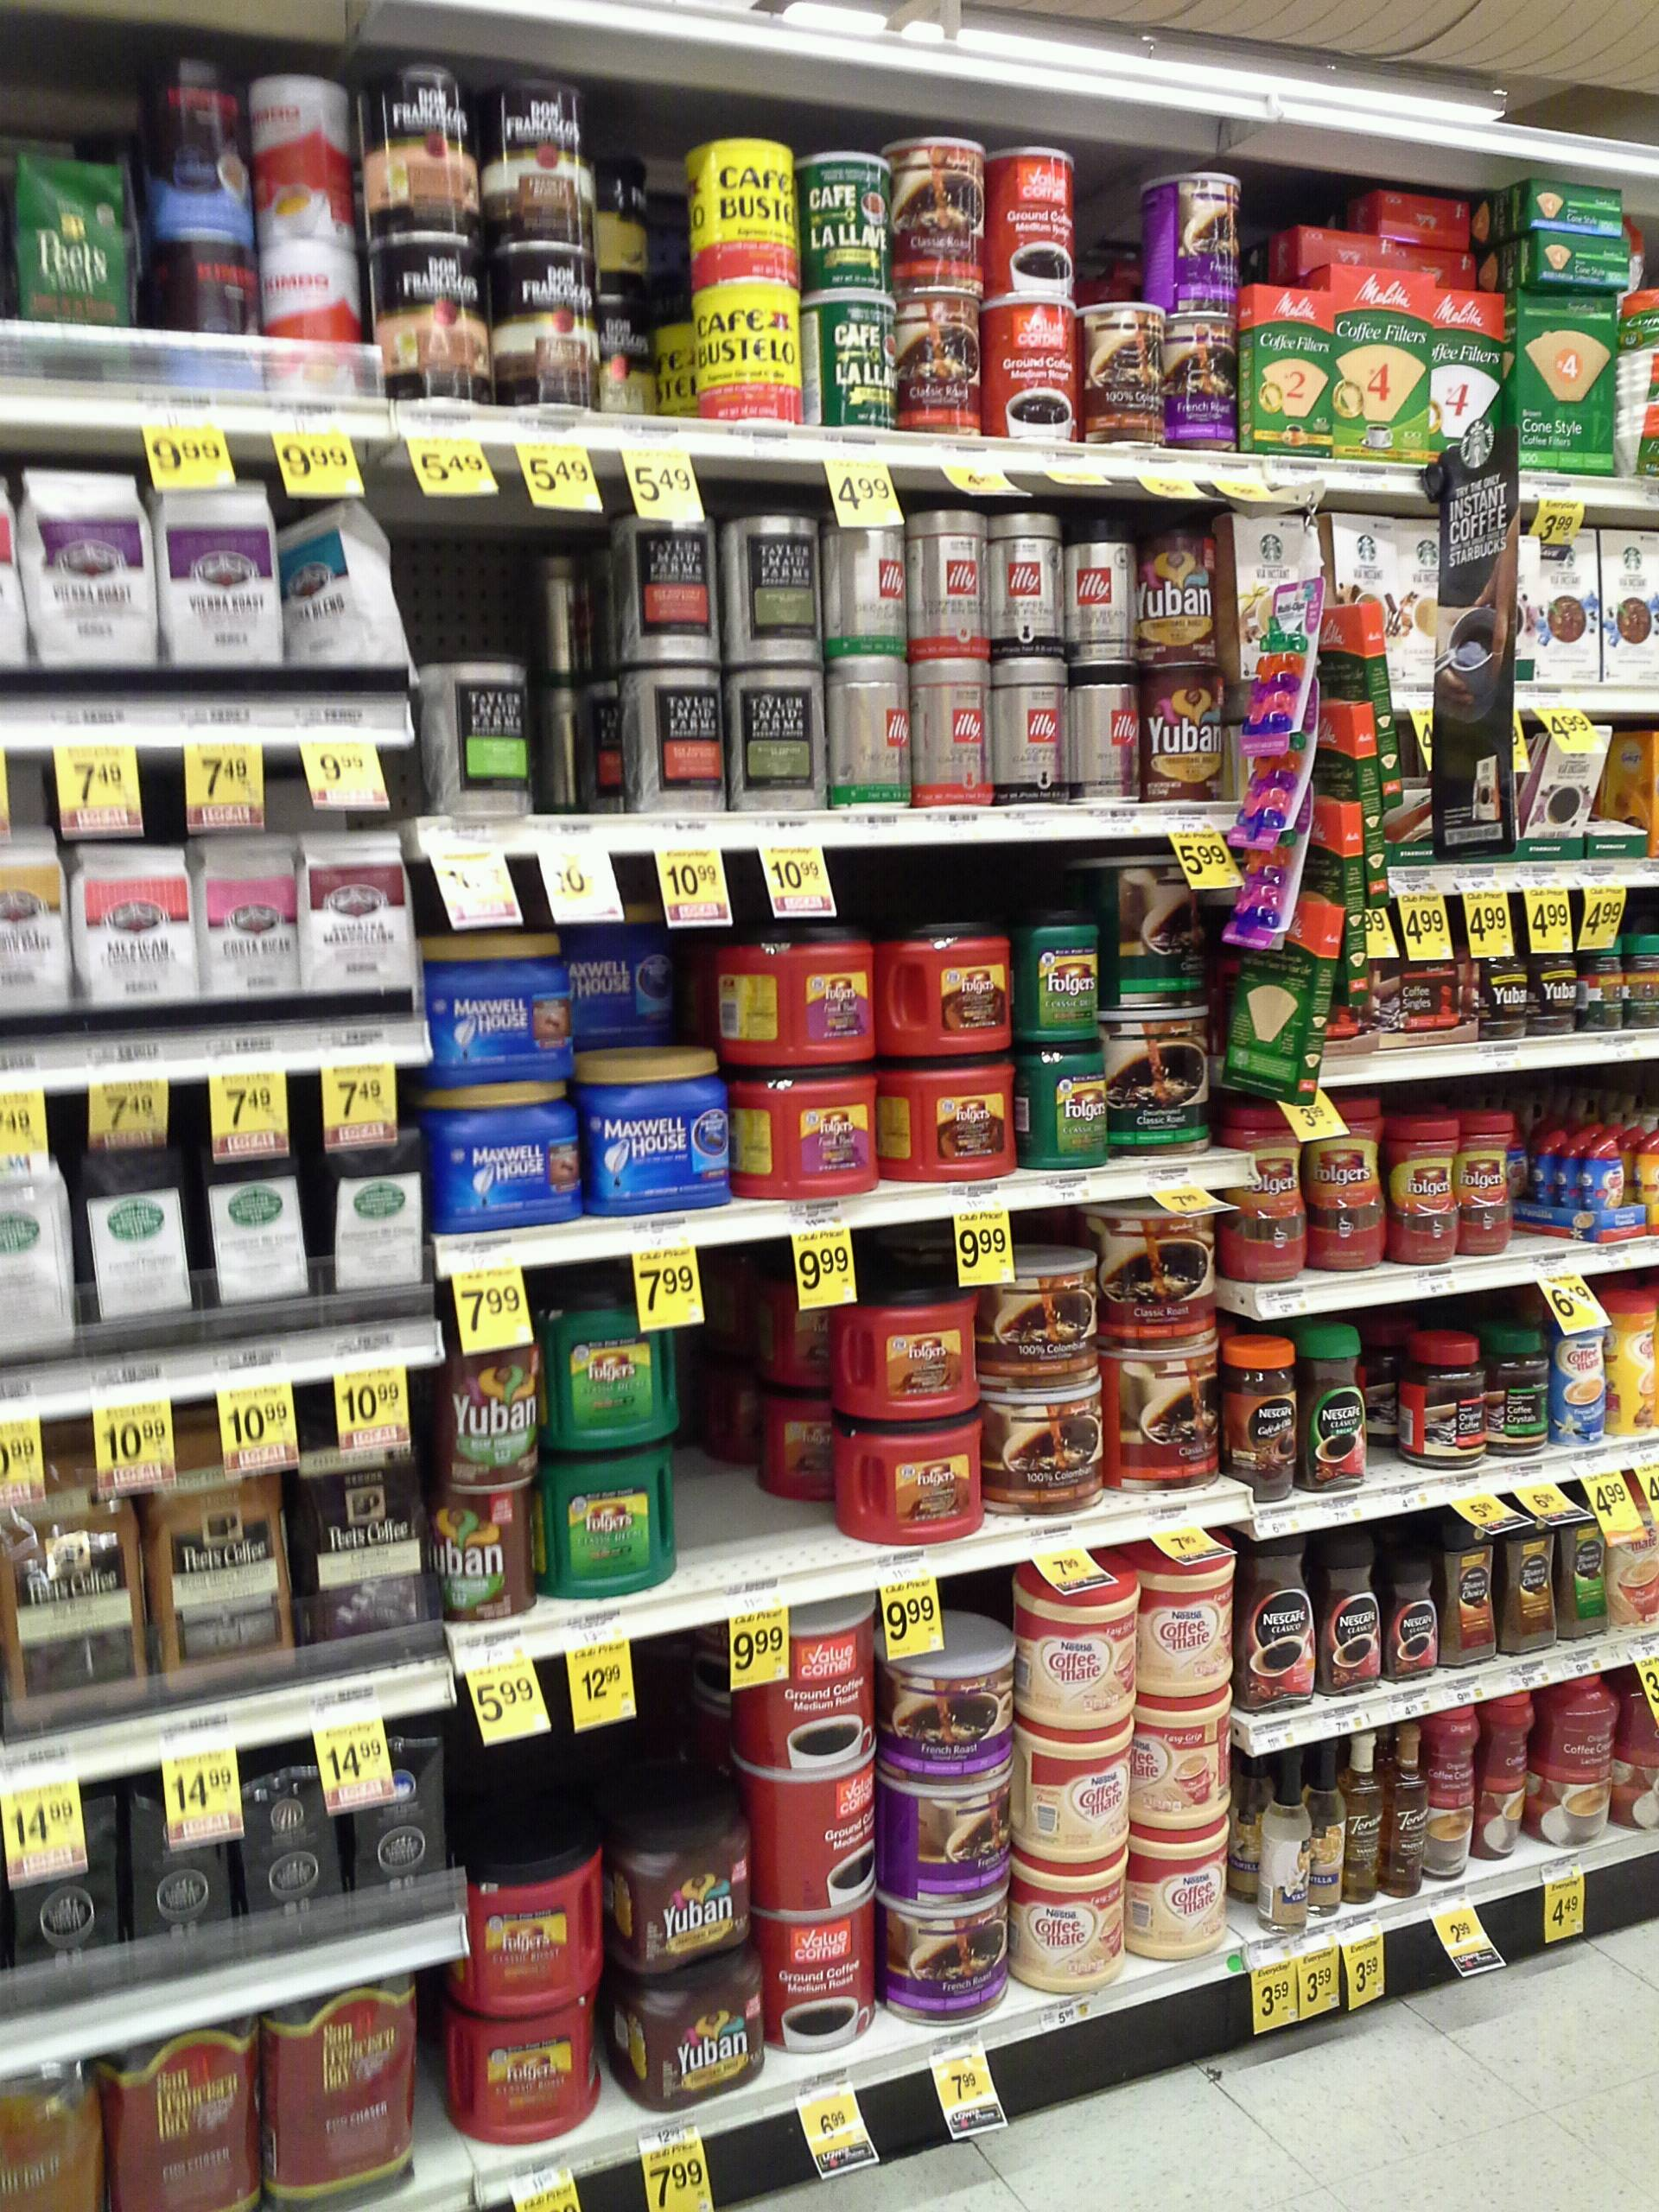Misplacement: (613, 1723, 763, 2128), (554, 895, 737, 1217), (383, 519, 533, 838), (1506, 1143, 1586, 1259)
Out-of-stock: (683, 1306, 803, 1634)
